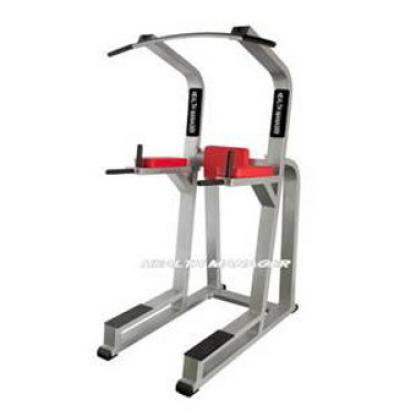chinning dipping: (98, 24, 301, 399)
